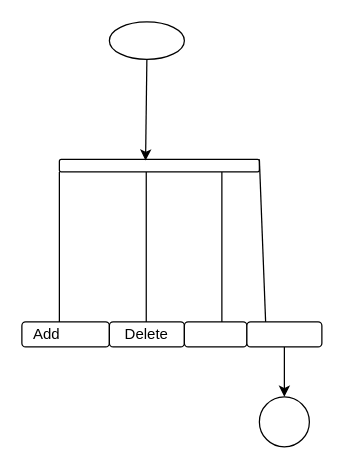
This 344x469 diagram has some shape labels left out. The centre of each missing label's shape, as x and y in pixels:
Find: [215,334]
Quit: [284,334]
